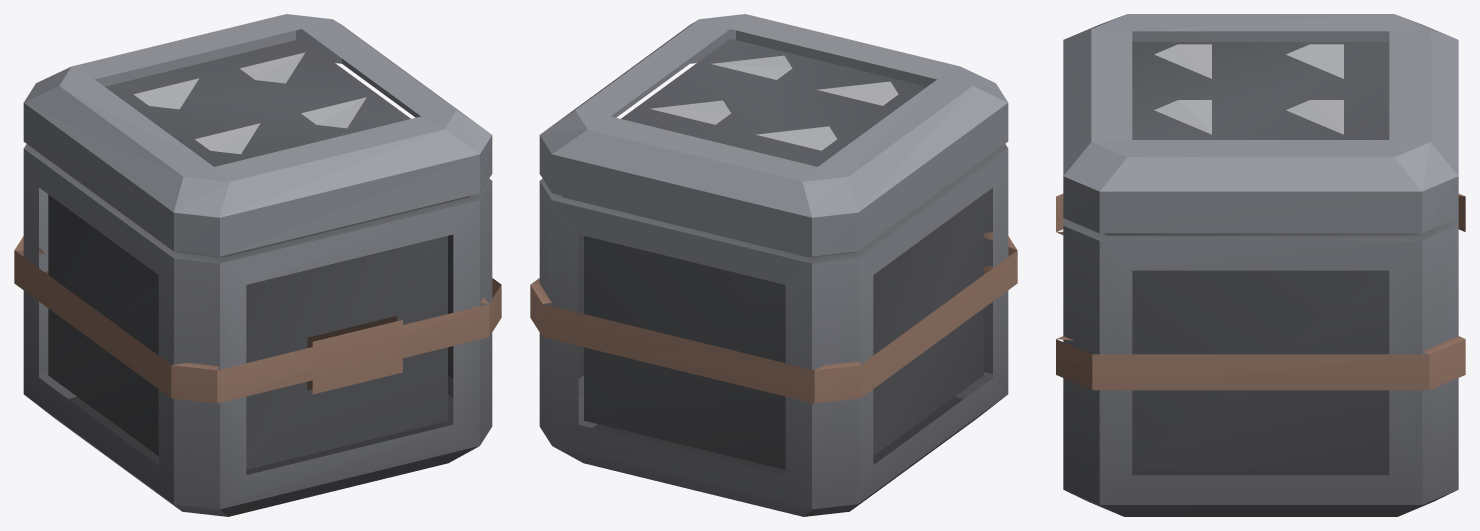
File: crate.lod.glb
3 views of the same model, side by side, from view 1: azimuth 30°, elevation 25°; view 2: azimuth 150°, elevation 25°; view 3: azimuth 270°, elevation 25° (orthographic). The views are drawn at different scales.
Parts seen in each view (by area): view 1: crate; view 2: crate; view 3: crate.
Boxes of the visible parts, x1,y1,x2,y2 form: crate: (14,14,501,516); crate: (530,14,1017,516); crate: (1056,14,1465,516).
Size of the model in its own units: 1.37 by 1.32 by 1.4.
